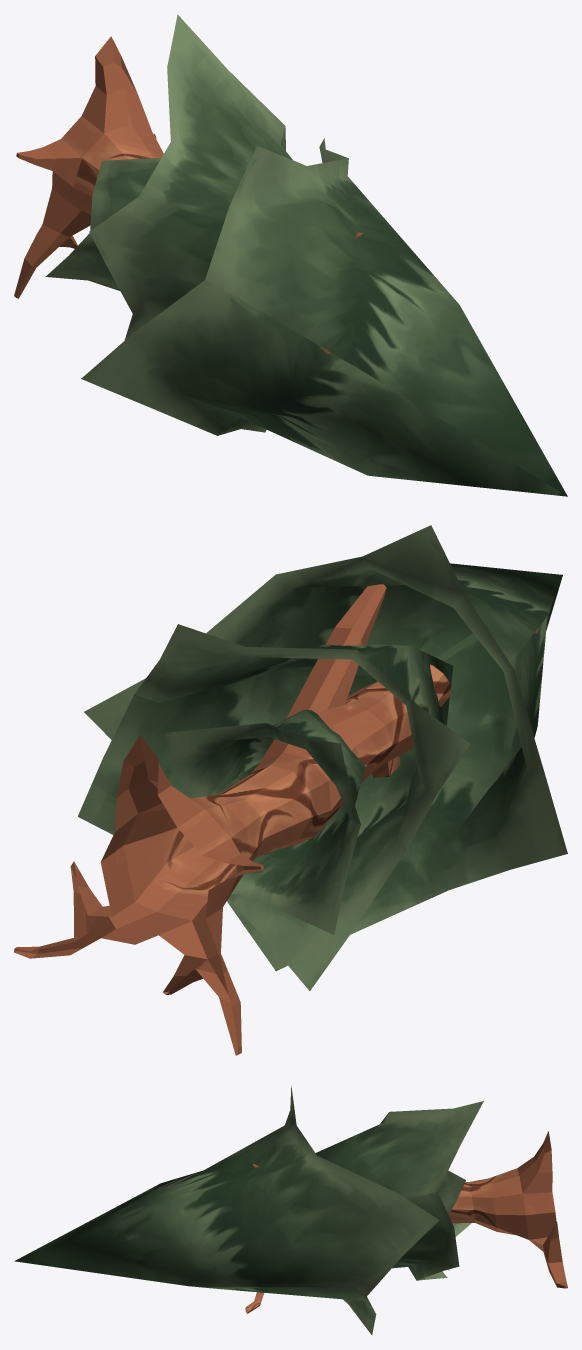
Rendered from PineTree1.fbx.
3 renders of one model, top to bottom at view 1: azimuth 30°, elevation 25°; view 2: azimuth 150°, elevation 25°; view 3: azimuth 270°, elevation 25°, orthographic. The views are drawn at different scales.
Parts seen in each view (by area): view 1: TreeLeaves3, TreeLeaves2, TreeTrunk, TreeLeaves1; view 2: TreeLeaves3, TreeTrunk, TreeLeaves2, TreeLeaves1; view 3: TreeLeaves3, TreeLeaves2, TreeTrunk, TreeLeaves1.
Boxes of the visible parts, bbox=[...] form: TreeLeaves3: bbox=[81, 138, 567, 496]; TreeLeaves2: bbox=[89, 15, 292, 340]; TreeTrunk: bbox=[14, 36, 363, 298]; TreeLeaves1: bbox=[45, 158, 161, 290]; TreeLeaves3: bbox=[84, 525, 567, 971]; TreeTrunk: bbox=[14, 584, 451, 1055]; TreeLeaves2: bbox=[78, 624, 469, 990]; TreeLeaves1: bbox=[164, 709, 365, 934]; TreeLeaves3: bbox=[14, 1086, 439, 1334]; TreeLeaves2: bbox=[315, 1101, 483, 1280]; TreeTrunk: bbox=[245, 1131, 567, 1313]; TreeLeaves1: bbox=[438, 1170, 471, 1270].
Size of the model in its own units: 1654 by 1727 by 3704.
Materials: 1 (1 with a texture image).
